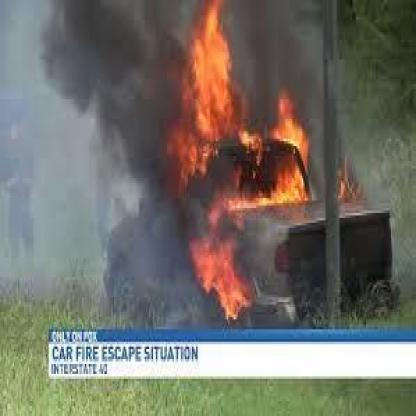fire: (174, 10, 312, 317), (338, 154, 364, 205)
smoke: (48, 2, 170, 283)
